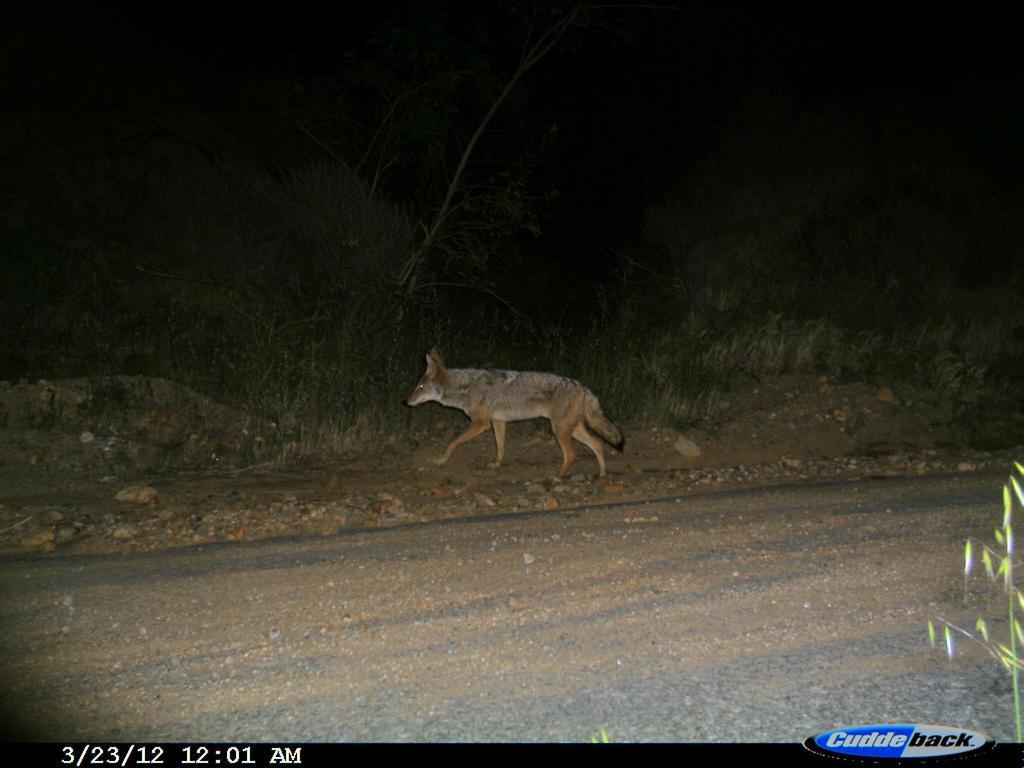coyote: (399, 347, 626, 491)
